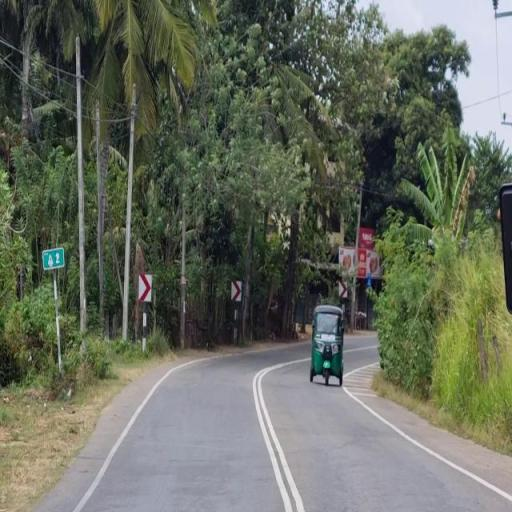double_white_line: (254, 359, 307, 512)
